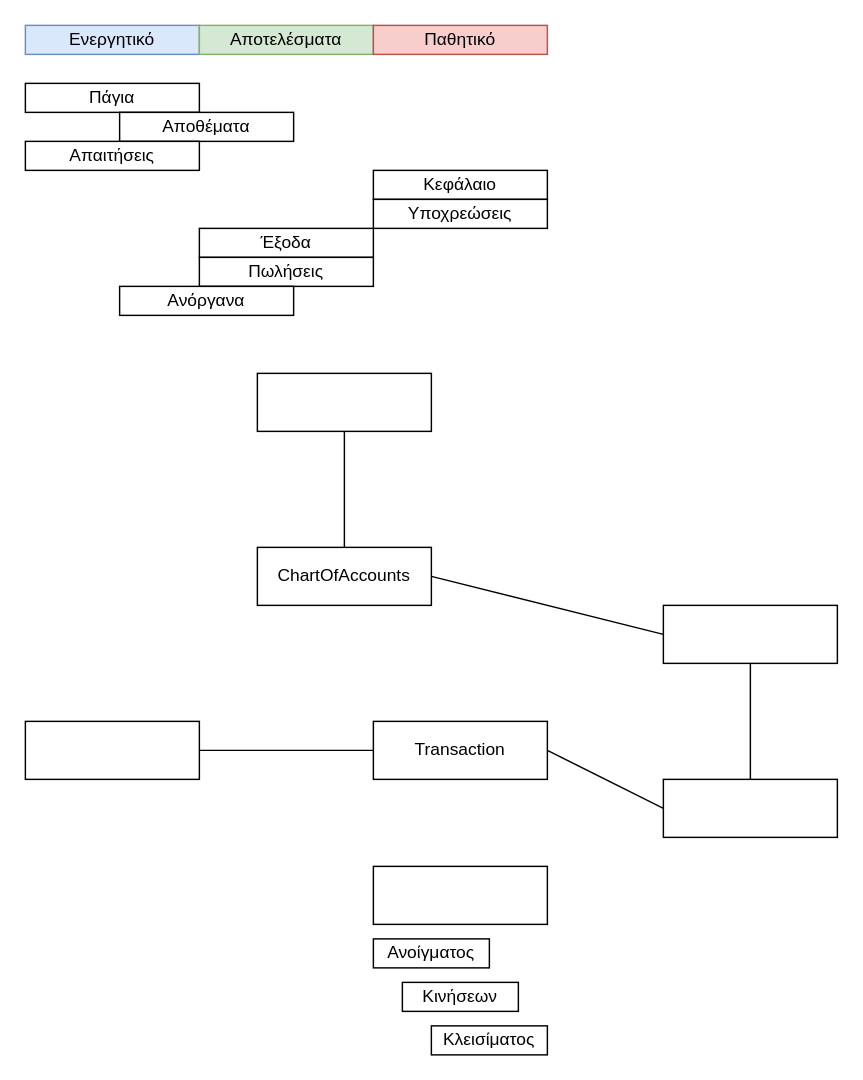
Some shapes in this 863 by 1080 pixel diagram are drawn without their labels. Here are the shapes that lost their labels. From the top down, the box of each, then its label:
(256, 372, 431, 431): AccountingStructure
(662, 604, 837, 663): Account
(24, 720, 199, 779): Book
(662, 778, 837, 837): TransactionLine
(372, 865, 547, 924): Journal
